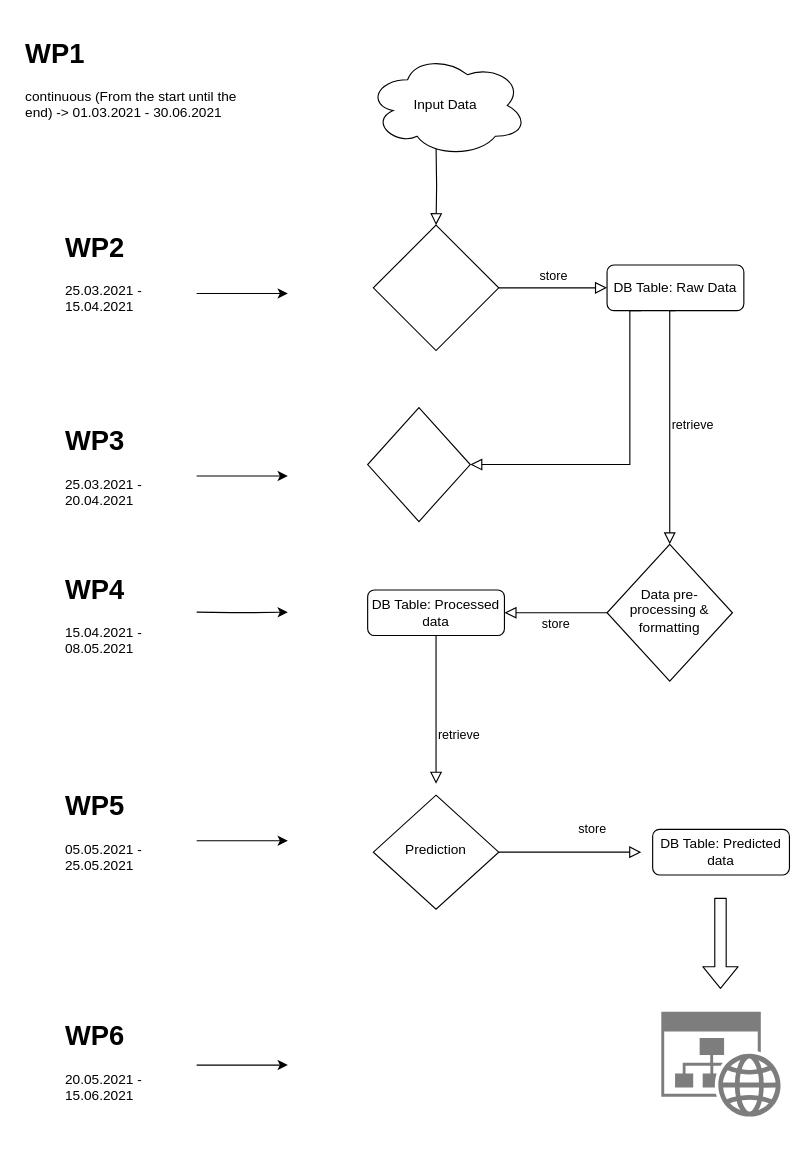
This 809x1161 diagram has some shape labels left out. The centre of each missing label's shape, as x and y in pixels:
Dashboard: the point at 720,1063
Data Analysis: the point at 418,464
Data retrieval & storage: the point at 435,287
